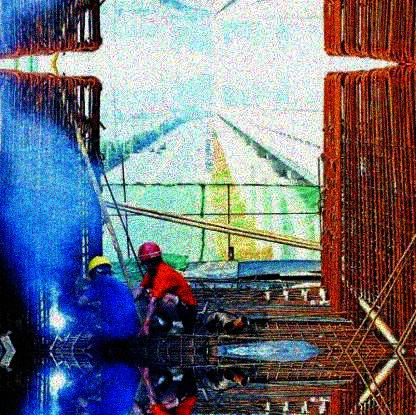helmet: (138, 242, 162, 271), (86, 256, 113, 280)
